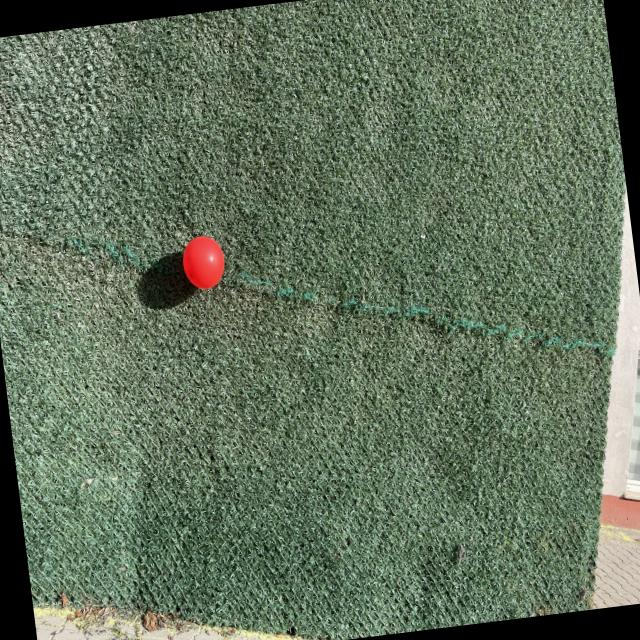balloon: (183, 236, 224, 288)
